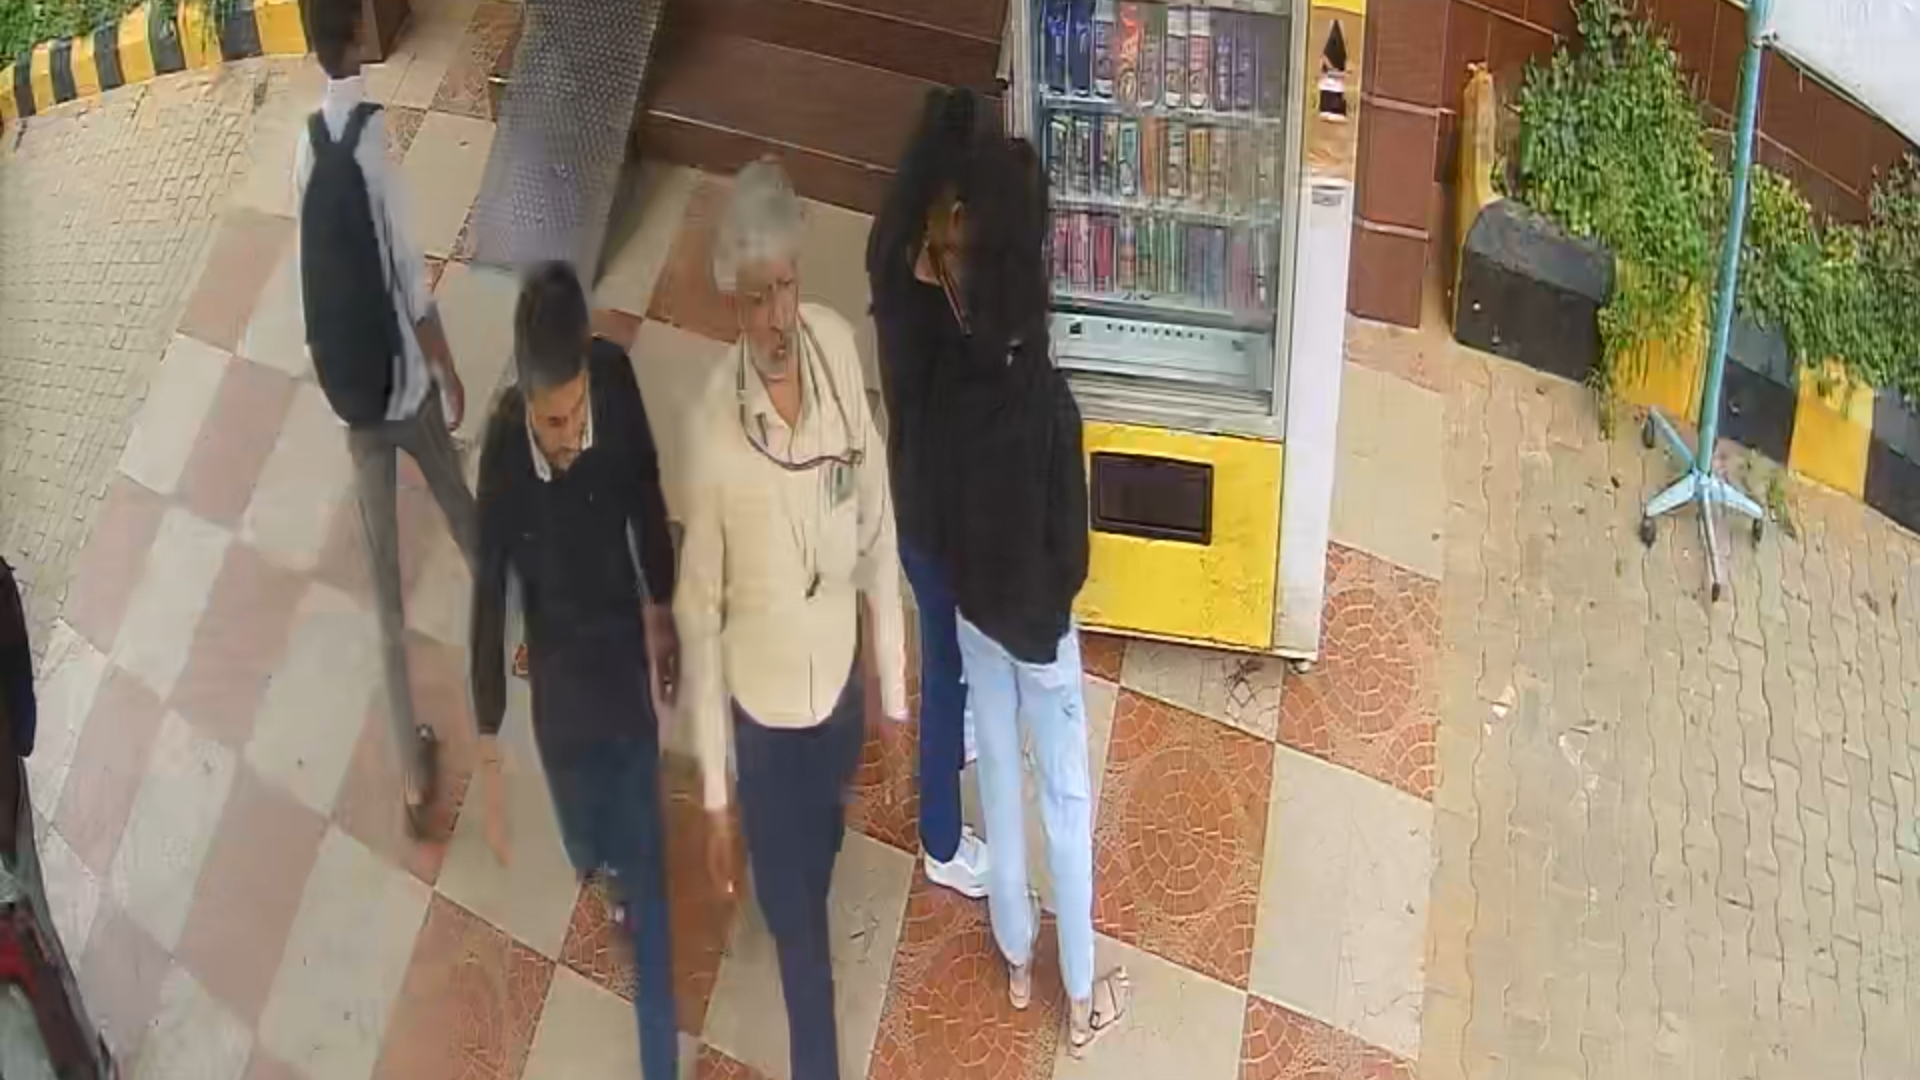intruder: (465, 264, 702, 1063)
not intruder: (704, 144, 873, 1069)
